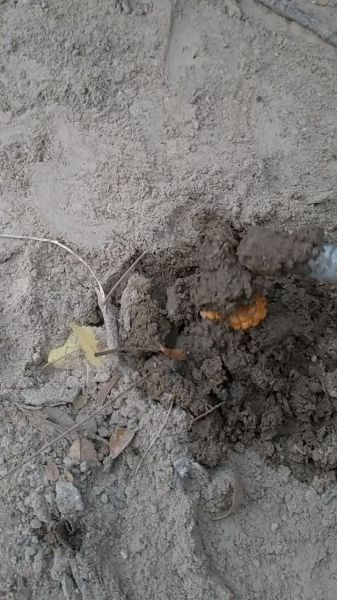eggs: (189, 274, 270, 332)
